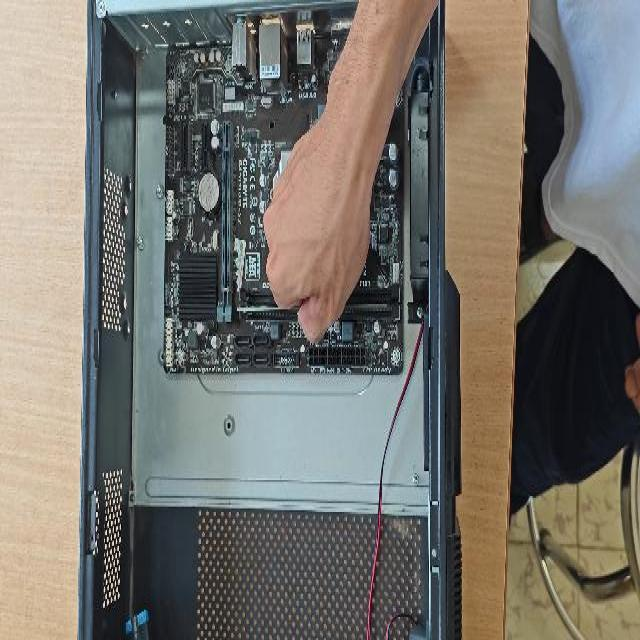Mainboard: (160, 39, 406, 377)
RAM: (237, 297, 391, 323)
